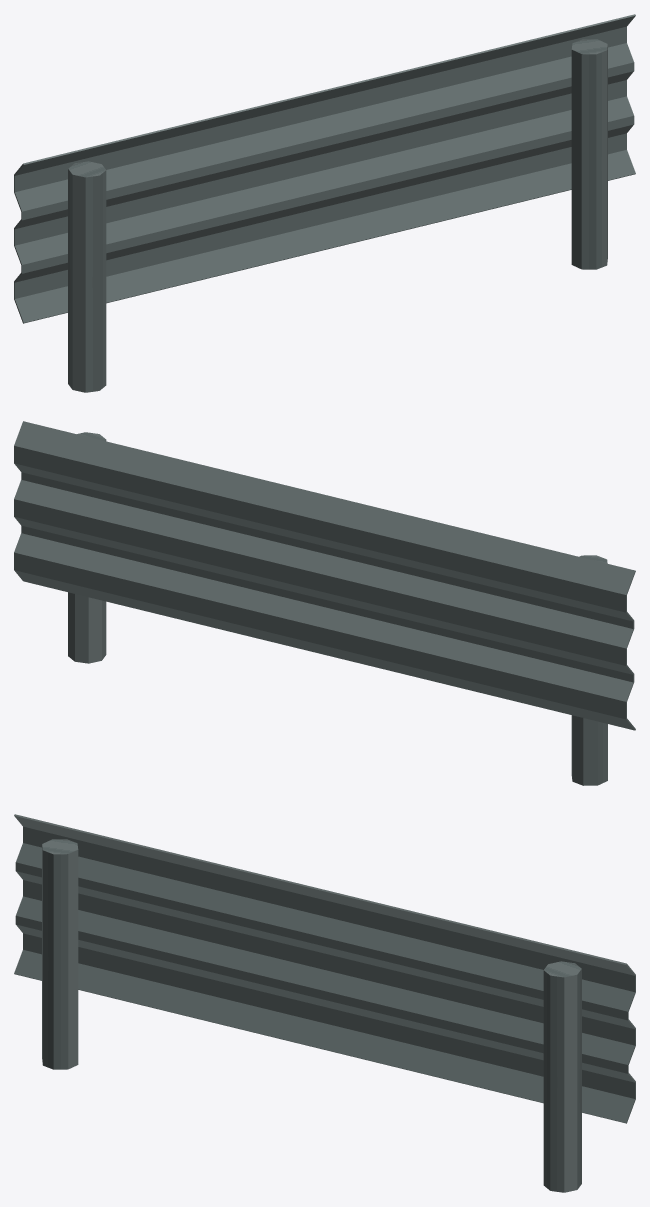
File: guard rail.fbx
3 views of the same model, one above another, from view 1: azimuth 30°, elevation 25°; view 2: azimuth 150°, elevation 25°; view 3: azimuth 330°, elevation 25° (orthographic).
Visible parts, largest first — view 1: guard rail, pillar; view 2: guard rail, pillar; view 3: guard rail, pillar.
Part boxes in pixels (box(x1,y1,x2,y2)): guard rail: box(14, 14, 635, 323); pillar: box(68, 39, 607, 392); guard rail: box(14, 421, 635, 730); pillar: box(68, 432, 607, 785); guard rail: box(14, 814, 635, 1123); pillar: box(42, 839, 581, 1192).
Bounding box in the file's own units: 400 × 142 × 31.52.
